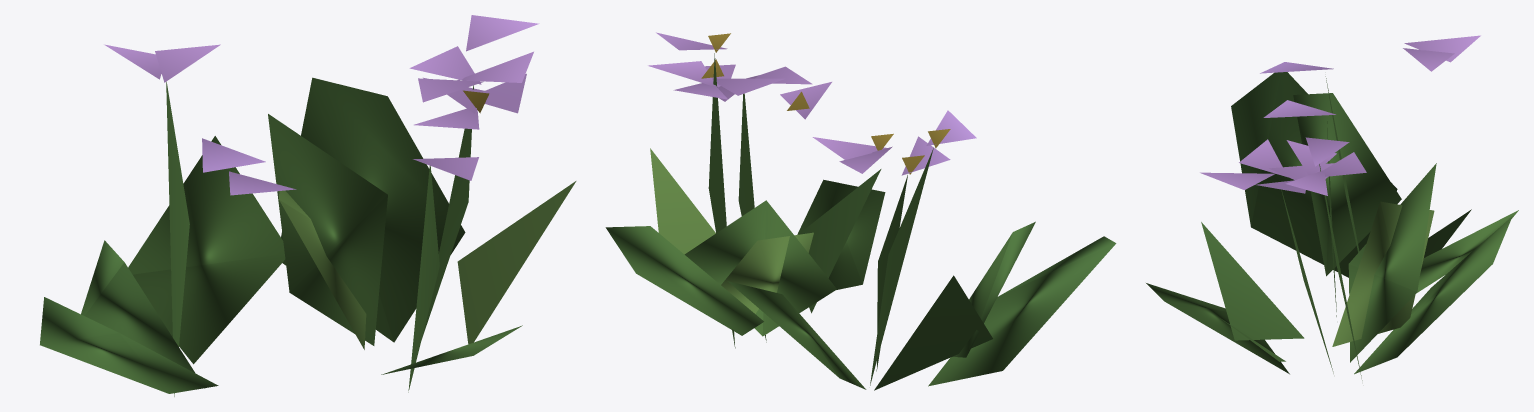
The model's file is shore_gc_sea_rocket_a_lod2.glb.
The picture shows the model from 3 angles, left to right: view 1: azimuth 30°, elevation 25°; view 2: azimuth 150°, elevation 25°; view 3: azimuth 270°, elevation 25°; orthographic projection. The views are drawn at different scales.
Parts seen in each view (by area): view 1: shore_gc_sea_rocket_a.001; view 2: shore_gc_sea_rocket_a.001; view 3: shore_gc_sea_rocket_a.001.
Boxes of the visible parts, box(x1,y1,x2,y2) form: shore_gc_sea_rocket_a.001: box(40, 15, 576, 396); shore_gc_sea_rocket_a.001: box(605, 32, 1116, 390); shore_gc_sea_rocket_a.001: box(1146, 35, 1518, 380).
Size of the model in its own units: 2.55 by 1.52 by 1.82.
